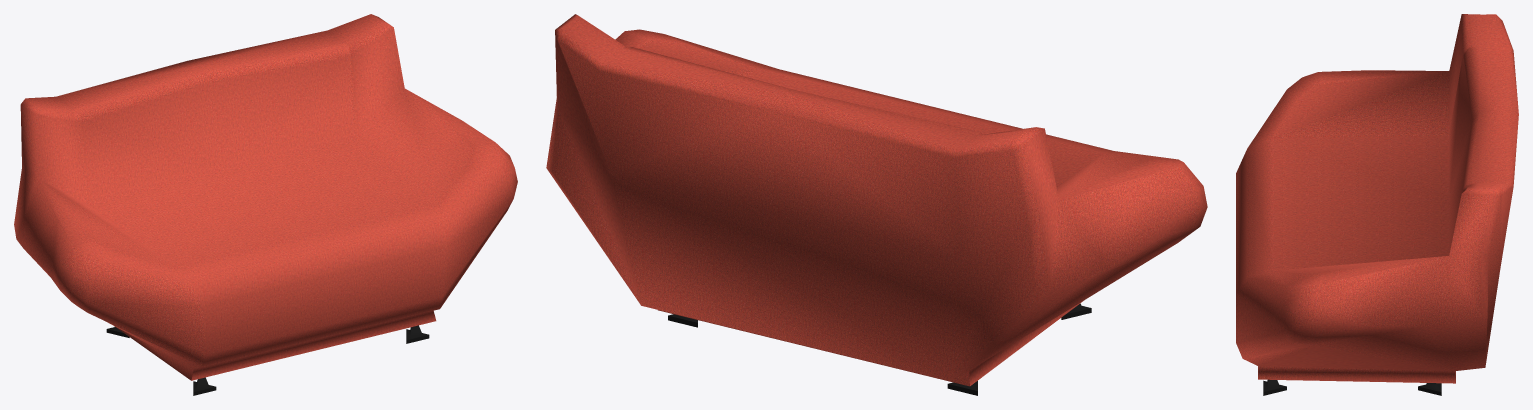
The model's file is couch.gltf.
3 renders of one model, left to right at view 1: azimuth 30°, elevation 25°; view 2: azimuth 150°, elevation 25°; view 3: azimuth 270°, elevation 25°, orthographic. The views are drawn at different scales.
Visible parts, largest first — view 1: Cube; view 2: Cube; view 3: Cube.
Part boxes in pixels (<box>): Cube: <box>14,14,517,395</box>; Cube: <box>546,14,1207,395</box>; Cube: <box>1236,14,1518,395</box>.
Size of the model in its own units: 3.41 by 1.64 by 1.78.
2 materials, 1 textured.
